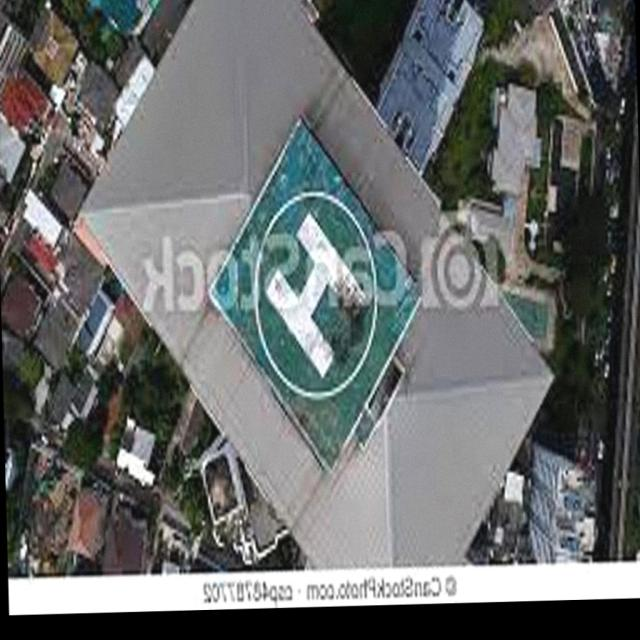helipad: (249, 186, 383, 405)
